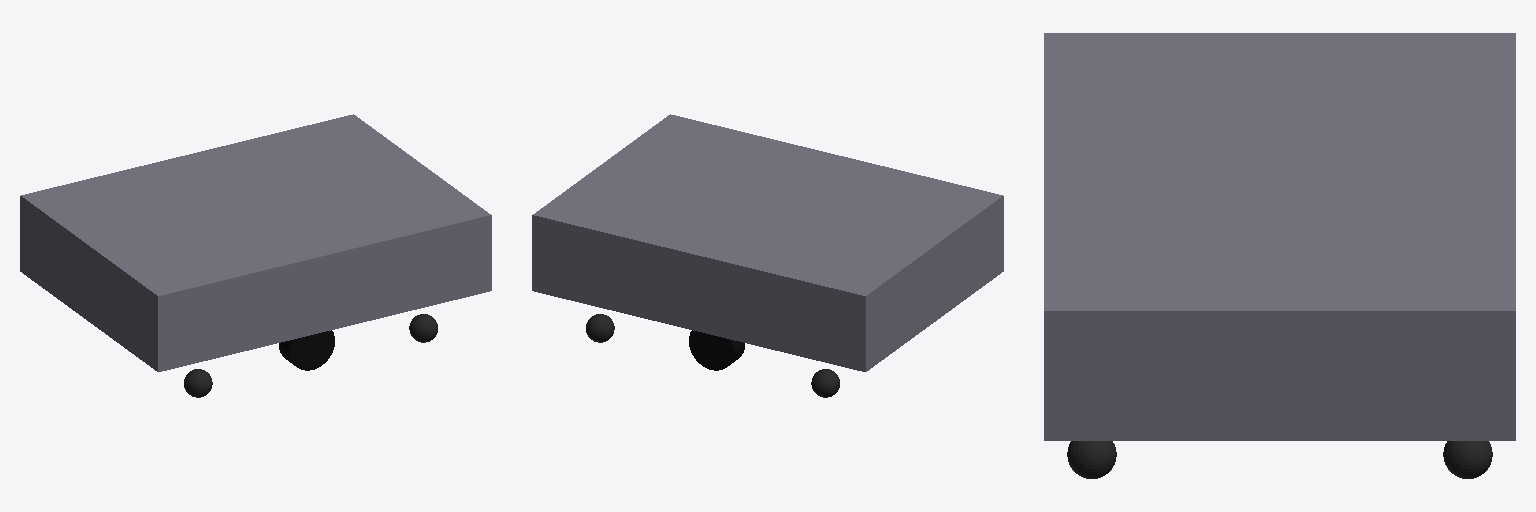
URDF robot description (slr_1000eu):
<?xml version="1.0" encoding="utf-8"?>
<!--
  URDF approximatif du SEER Robotics SLR-1000EU
  Basé sur le manuel utilisateur V1.0 (2025.12)
  
  Paramètres clés :
    - Châssis : 1330 x 952 x 290.5 mm
    - Masse totale (avec batterie) : 265 kg
    - 2 roues motrices différentielles, rayon=90mm, écartement=703mm
    - 4 roues folles (omni/caster), rayon=50mm (estimé)
    - Plateforme de levage : 1300 x 920 x 20mm, course=60mm
    - Navigation laser height : 185 mm

  AVERTISSEMENT :
    Les valeurs d'inertie et certaines géométries sont estimées.
    Les fichiers mesh (.dae/.stl) ne sont PAS inclus (non fournis par le fabricant).
    Ce fichier est un point de départ — à affiner avec les données CAD officielles.
-->

<robot name="slr_1000eu">

  <!-- ============================================================
       MATERIALS
  ============================================================ -->
  <material name="dark_gray">
    <color rgba="0.2 0.2 0.2 1.0"/>
  </material>
  <material name="cool_gray">
    <color rgba="0.5 0.5 0.55 1.0"/>
  </material>
  <material name="black">
    <color rgba="0.1 0.1 0.1 1.0"/>
  </material>
  <material name="red">
    <color rgba="0.8 0.1 0.1 1.0"/>
  </material>
  <material name="yellow">
    <color rgba="1.0 0.85 0.0 1.0"/>
  </material>

  <!-- ============================================================
       BASE LINK  (centre de l'axe différentiel, au sol)
       Origine : centre géométrique de l'axe des 2 roues motrices
  ============================================================ -->
  <link name="base_link">
    <!-- Repère de référence ROS convention : X=avant, Y=gauche, Z=haut -->
  </link>

  <!-- ============================================================
       CHASSIS LINK
       Châssis principal : 1330 x 952 x 290.5 mm
       Masse totale répartie : ~200 kg (châssis + batterie + électronique)
       Centre de masse estimé à mi-hauteur
  ============================================================ -->
  <link name="chassis">
    <visual>
      <origin xyz="0.0 0.0 0.1453" rpy="0 0 0"/>
      <geometry>
        <!-- 1330mm x 952mm x 290.5mm => coins arrondis non modélisés -->
        <box size="1.330 0.952 0.2905"/>
      </geometry>
      <material name="cool_gray"/>
    </visual>
    <collision>
      <origin xyz="0.0 0.0 0.1453" rpy="0 0 0"/>
      <geometry>
        <box size="1.330 0.952 0.2905"/> 
      </geometry>
    </collision>
    <inertial>
      <!-- masse châssis + batterie + électronique ≈ 200 kg -->
      <!-- Ixx = m/12*(h²+d²), Iyy = m/12*(w²+d²), Izz = m/12*(w²+h²) -->
      <!-- w=0.952, h=0.290, d=1.330 -->
      <mass value="200.0"/>
      <origin xyz="0.0 0.0 0.1453" rpy="0 0 0"/>
      <inertia
        ixx="6.556"
        ixy="0.0"
        ixz="0.0"
        iyy="60.27"
        iyz="0.0"
        izz="63.38"/>
    </inertial>
  </link>

  <joint name="base_to_chassis" type="fixed">
    <parent link="base_link"/>
    <child link="chassis"/>
    <origin xyz="0.0 0.0 0.090" rpy="0 0 0"/>
    <!-- L'axe différentiel est à hauteur rayon roue = 90mm du sol -->
  </joint>

  <!-- ============================================================
       ROUE MOTRICE GAUCHE
       Rayon : 90 mm  |  Largeur estimée : 80 mm
       Masse estimée : 8 kg
       Axe Y à 703/2 = 351.5 mm du centre
  ============================================================ -->
  <link name="wheel_left">
    <visual>
      <origin xyz="0.0 0.0 0.0" rpy="1.5708 0 0"/>
      <geometry>
        <cylinder radius="0.090" length="0.080"/>
      </geometry>
      <material name="black"/>
    </visual>
    <collision>
      <origin xyz="0.0 0.0 0.0" rpy="1.5708 0 0"/>
      <geometry>
        <cylinder radius="0.090" length="0.080"/>
      </geometry>
    </collision>
    <inertial>
      <mass value="8.0"/>
      <origin xyz="0.0 0.0 0.0" rpy="0 0 0"/>
      <!-- Cylindre plein : Ixx=Iyy = m/12*(3r²+h²), Izz = m/2*r² -->
      <inertia
        ixx="0.0618"
        ixy="0.0"
        ixz="0.0"
        iyy="0.0618"
        iyz="0.0"
        izz="0.0324"/>
    </inertial>
  </link>

  <joint name="left_wheel_joint" type="continuous">
    <parent link="base_link"/>
    <child link="wheel_left"/>
    <origin xyz="0.0 0.3515 0.0" rpy="0 0 0"/>
    <axis xyz="0 1 0"/>
    <dynamics damping="0.1" friction="0.5"/>
    <limit effort="100" velocity="20"/>
  </joint>

  <!-- ============================================================
       ROUE MOTRICE DROITE
  ============================================================ -->
  <link name="wheel_right">
    <visual>
      <origin xyz="0.0 0.0 0.0" rpy="1.5708 0 0"/>
      <geometry>
        <cylinder radius="0.090" length="0.080"/>
      </geometry>
      <material name="black"/>
    </visual>
    <collision>
      <origin xyz="0.0 0.0 0.0" rpy="1.5708 0 0"/>
      <geometry>
        <cylinder radius="0.090" length="0.080"/>
      </geometry>
    </collision>
    <inertial>
      <mass value="8.0"/>
      <origin xyz="0.0 0.0 0.0" rpy="0 0 0"/>
      <inertia
        ixx="0.0618"
        ixy="0.0"
        ixz="0.0"
        iyy="0.0618"
        iyz="0.0"
        izz="0.0324"/>
    </inertial>
  </link>

  <joint name="right_wheel_joint" type="continuous">
    <parent link="base_link"/>
    <child link="wheel_right"/>
    <origin xyz="0.0 -0.3515 0.0" rpy="0 0 0"/>
    <axis xyz="0 1 0"/>
    <dynamics damping="0.1" friction="0.5"/>
    <limit effort="100" velocity="20"/>
  </joint>

  <!-- ============================================================
       ROUES FOLLES / OMNI (4x)
       Positionnement estimé aux 4 coins du châssis
       Rayon estimé : 50 mm, masse : 2 kg chacune
       
       Positions (X, Y) estimées :
         Avant-gauche  : (+0.45,  +0.38)
         Avant-droite  : (+0.45,  -0.38)
         Arrière-gauche: (-0.45,  +0.38)
         Arrière-droite: (-0.45,  -0.38)
  ============================================================ -->

  <!-- Roue folle avant-gauche -->
  <link name="caster_front_left">
    <visual>
      <origin xyz="0.0 0.0 0.0" rpy="1.5708 0 0"/>
      <geometry>
        <sphere radius="0.050"/>
      </geometry>
      <material name="dark_gray"/>
    </visual>
    <collision>
      <origin xyz="0.0 0.0 0.0" rpy="0 0 0"/>
      <geometry>
        <sphere radius="0.050"/>
      </geometry>
    </collision>
    <inertial>
      <mass value="2.0"/>
      <origin xyz="0.0 0.0 0.0" rpy="0 0 0"/>
      <!-- Sphère : I = 2/5 * m * r² -->
      <inertia
        ixx="0.002"
        ixy="0.0"
        ixz="0.0"
        iyy="0.002"
        iyz="0.0"
        izz="0.002"/>
    </inertial>
  </link>

  <joint name="caster_front_left_joint" type="fixed">
    <parent link="base_link"/>
    <child link="caster_front_left"/>
    <origin xyz="0.450 0.380 -0.040" rpy="0 0 0"/>
  </joint>

  <!-- Roue folle avant-droite -->
  <link name="caster_front_right">
    <visual>
      <origin xyz="0.0 0.0 0.0" rpy="1.5708 0 0"/>
      <geometry>
        <sphere radius="0.050"/>
      </geometry>
      <material name="dark_gray"/>
    </visual>
    <collision>
      <origin xyz="0.0 0.0 0.0" rpy="0 0 0"/>
      <geometry>
        <sphere radius="0.050"/>
      </geometry>
    </collision>
    <inertial>
      <mass value="2.0"/>
      <origin xyz="0.0 0.0 0.0" rpy="0 0 0"/>
      <inertia
        ixx="0.002"
        ixy="0.0"
        ixz="0.0"
        iyy="0.002"
        iyz="0.0"
        izz="0.002"/>
    </inertial>
  </link>

  <joint name="caster_front_right_joint" type="fixed">
    <parent link="base_link"/>
    <child link="caster_front_right"/>
    <origin xyz="0.450 -0.380 -0.040" rpy="0 0 0"/>
  </joint>

  <!-- Roue folle arrière-gauche -->
  <link name="caster_rear_left">
    <visual>
      <origin xyz="0.0 0.0 0.0" rpy="1.5708 0 0"/>
      <geometry>
        <sphere radius="0.050"/>
      </geometry>
      <material name="dark_gray"/>
    </visual>
    <collision>
      <origin xyz="0.0 0.0 0.0" rpy="0 0 0"/>
      <geometry>
        <sphere radius="0.050"/>
      </geometry>
    </collision>
    <inertial>
      <mass value="2.0"/>
      <origin xyz="0.0 0.0 0.0" rpy="0 0 0"/>
      <inertia
        ixx="0.002"
        ixy="0.0"
        ixz="0.0"
        iyy="0.002"
        iyz="0.0"
        izz="0.002"/>
    </inertial>
  </link>

  <joint name="caster_rear_left_joint" type="fixed">
    <parent link="base_link"/>
    <child link="caster_rear_left"/>
    <origin xyz="-0.450 0.380 -0.040" rpy="0 0 0"/>
  </joint>

  <!-- Roue folle arrière-droite -->
  <link name="caster_rear_right">
    <visual>
      <origin xyz="0.0 0.0 0.0" rpy="1.5708 0 0"/>
      <geometry>
        <sphere radius="0.050"/>
      </geometry>
      <material name="dark_gray"/>
    </visual>
    <collision>
      <origin xyz="0.0 0.0 0.0" rpy="0 0 0"/>
      <geometry>
        <sphere radius="0.050"/>
      </geometry>
    </collision>
    <inertial>
      <mass value="2.0"/>
      <origin xyz="0.0 0.0 0.0" rpy="0 0 0"/>
      <inertia
        ixx="0.002"
        ixy="0.0"
        ixz="0.0"
        iyy="0.002"
        iyz="0.0"
        izz="0.002"/>
    </inertial>
  </link>

  <joint name="caster_rear_right_joint" type="fixed">
    <parent link="base_link"/>
    <child link="caster_rear_right"/>
    <origin xyz="-0.450 -0.380 -0.040" rpy="0 0 0"/>
  </joint>

  <!-- ============================================================
       PLATEFORME DE LEVAGE (jack/lifting platform)
       Dimensions : 1300 x 920 mm, épaisseur 20 mm (estimée)
       Course : 0 à 60 mm  |  Masse estimée : 35 kg
       Axe de levage : Z (vertical)
  ============================================================ -->
  <link name="lifting_platform">
    <visual>
      <origin xyz="0.0 0.0 0.010" rpy="0 0 0"/>
      <geometry>
        <box size="1.300 0.920 0.020"/>
      </geometry>
      <material name="dark_gray"/>
    </visual>
    <collision>
      <origin xyz="0.0 0.0 0.010" rpy="0 0 0"/>
      <geometry>
        <box size="1.300 0.920 0.020"/>
      </geometry>
    </collision>
    <inertial>
      <mass value="35.0"/>
      <origin xyz="0.0 0.0 0.010" rpy="0 0 0"/>
      <!-- Boîte : Ixx = m/12*(h²+d²), Iyy = m/12*(w²+d²), Izz = m/12*(w²+h²) -->
      <inertia
        ixx="2.614"
        ixy="0.0"
        ixz="0.0"
        iyy="5.096"
        iyz="0.0"
        izz="7.586"/>
    </inertial>
  </link>

  <joint name="lifting_joint" type="prismatic">
    <parent link="chassis"/>
    <!-- Position initiale : dessus du châssis (290.5mm) - offset chassis origin (145.3mm) -->
    <child link="lifting_platform"/>
    <origin xyz="0.0 0.0 0.1453" rpy="0 0 0"/>
    <!-- Le dessus du châssis est à chassis_origin + 0.1453 = 0.290m -->
    <axis xyz="0 0 1"/>
    <limit lower="0.0" upper="0.060" effort="5000" velocity="0.05"/>
    <dynamics damping="500.0" friction="100.0"/>
  </joint>

  <!-- ============================================================
       LASER DE NAVIGATION (SLAM) - AVANT
       SICK nanoScan3 HV
       Position : hauteur 185 mm du sol, à l'avant du robot
       Angle de scan : 270°
       Distance détection : 40 m
  ============================================================ -->
  <link name="laser_front">
    <visual>
      <origin xyz="0.0 0.0 0.0" rpy="0 0 0"/>
      <geometry>
        <cylinder radius="0.055" length="0.060"/>
      </geometry>
      <material name="dark_gray"/>
    </visual>
     
    <collision>
      <origin xyz="0.0 0.0 0.0" rpy="0 0 0"/>
      <geometry>
        <cylinder radius="0.055" length="0.060"/>
      </geometry>
    </collision>
    
    <inertial>
      <mass value="0.5"/>
      <origin xyz="0.0 0.0 0.0" rpy="0 0 0"/>
      <inertia
        ixx="0.001"
        ixy="0.0"
        ixz="0.0"
        iyy="0.001"
        iyz="0.0"
        izz="0.001"/>
    </inertial>
  </link>

  <joint name="laser_front_joint" type="fixed">
    <parent link="base_link"/>
    <!-- 
      Hauteur laser : 185mm du sol => 185mm - 90mm(rayon roue) = 95mm au-dessus de base_link
      Position X avant : distance laser-axe différentiel = 518.3mm (manuel §3.3)
      Orientation : scan vers l'avant (pas de rotation par défaut)
    -->
    <child link="laser_front"/>
    <origin xyz="0.5183 0.0 0.095" rpy="0 0 0"/> 
    <!-- <origin xyz="0.73 0.0 0.095" rpy="0 0 0"/> --> <!-- pushed it a little so it won't be blocked by the chassis-->
  </joint>

  <!-- ============================================================
       LASER DE NAVIGATION (SLAM) - ARRIÈRE
       SICK nanoScan3 HV (2 lidars au total)
       Symétrique par rapport au laser avant
  ============================================================ -->
  <link name="laser_rear">
    <visual>
      <origin xyz="0.0 0.0 0.0" rpy="0 0 0"/>
      <geometry>
        <cylinder radius="0.055" length="0.060"/>
      </geometry>
      <material name="dark_gray"/>
    </visual>
    <collision>
      <origin xyz="0.0 0.0 0.0" rpy="0 0 0"/>
      <geometry>
        <cylinder radius="0.055" length="0.060"/>
      </geometry>
    </collision>
    <inertial>
      <mass value="0.5"/>
      <origin xyz="0.0 0.0 0.0" rpy="0 0 0"/>
      <inertia
        ixx="0.001"
        ixy="0.0"
        ixz="0.0"
        iyy="0.001"
        iyz="0.0"
        izz="0.001"/>
    </inertial>
  </link>

  <joint name="laser_rear_joint" type="fixed">
    <parent link="base_link"/>
    <child link="laser_rear"/>
    <!-- Arrière du robot, tourné à 180° (scan vers l'arrière) -->

    
    <origin xyz="-0.5183 0.0 0.095" rpy="0 0 3.14159"/>
        
    <!-- <origin xyz="-0.73 0.0 0.095" rpy="0 0 3.14159"/> --> <!-- pushed it a little so it won't be blocked by the chassis-->
  </joint>

  <!-- ============================================================
       IMU (estimé au centre du châssis)
  ============================================================ -->
  <link name="imu_link">
    <inertial>
      <mass value="0.01"/>
      <origin xyz="0.0 0.0 0.0" rpy="0 0 0"/>
      <inertia
        ixx="0.000001"
        ixy="0.0"
        ixz="0.0"
        iyy="0.000001"
        iyz="0.0"
        izz="0.000001"/>
    </inertial>
  </link>

  <joint name="imu_joint" type="fixed">
    <parent link="base_link"/>
    <child link="imu_link"/>
    <origin xyz="0.0 0.0 0.100" rpy="0 0 0"/>
  </joint>




  

  <!-- ============================================================
       FRAME FOOTPRINT (projection au sol)
       Convention ROS Navigation
  ============================================================ -->
  <link name="base_footprint"/>

  
  <!-- <joint name="base_footprint_joint" type="fixed">
    <parent link="base_footprint"/>
    <child link="base_link"/>
    <origin xyz="0.0 0.0 0.090" rpy="0 0 0"/>
    
  </joint>--> <!-- base_link est à 90mm du sol (rayon des roues motrices) -->

  <!-- 
  <joint name="base_link_to_footprint" type="fixed">
    <parent link="base_link"/>
    <child link="base_footprint"/>
    <origin xyz="0.0 0.0 -0.090" rpy="0 0 0"/>
  </joint>-->

  <!-- added-->
  <joint name="base_footprint_to_link" type="fixed">
    <parent link="base_footprint"/>
    <child link="base_link"/>
    <origin xyz="0.0 0.0 0.090" rpy="0 0 0"/> 
  </joint>
  

  

  <!-- gazebo plugins added :-->
<gazebo>

    <!-- 
    <plugin
      filename="gz-sim-diff-drive-system"
      name="gz::sim::systems::DiffDrive">
      <publish_odom>true</publish_odom> 
      <publish_odom_tf>true</publish_odom_tf> 
      <left_joint>left_wheel_joint</left_joint>
      <right_joint>right_wheel_joint</right_joint>

      <wheel_separation>0.703</wheel_separation> 
      <wheel_diameter>0.180</wheel_diameter>
      <max_wheel_torque>100</max_wheel_torque>

      <topic>cmd_vel</topic>
      <odom_topic>odom</odom_topic>
      <frame_id>odom</frame_id>
      <child_frame_id>base_footprint</child_frame_id>
    </plugin> -->

    <!--
    <plugin filename="gz-sim-diff-drive-system" name="gz::sim::systems::DiffDrive">
      <publish_odom>true</publish_odom> 
      <publish_odom_tf>true</publish_odom_tf> 
      <odom_publish_frequency>50</odom_publish_frequency> 
      <left_joint>left_wheel_joint</left_joint>
      <right_joint>right_wheel_joint</right_joint>


      <wheel_separation>0.703</wheel_separation>
      <wheel_diameter>0.180</wheel_diameter>
      <max_wheel_torque>100</max_wheel_torque>

      <topic>cmd_vel</topic>
      <odom_topic>odom</odom_topic>
      <frame_id>odom</frame_id>
      <child_frame_id>base_footprint</child_frame_id>
    </plugin> -->

    <!-- new-->
    <!-- fixed it , solution from : https://www.reddit.com/r/ROS/comments/1f4hrjk/rviz_is_faster_than_gazebo_any_idea_why_this/ -->
     <!-- "wheel_diameter" to "wheel_radius"
      With the gz_sim diffdrive plugin, it uses radius instead of diameter so since the diameter is set (but not accepted by the plugin) it defaults to a different value.-->
    <plugin filename="gz-sim-diff-drive-system" name="gz::sim::systems::DiffDrive">
      <left_joint>left_wheel_joint</left_joint>
      <right_joint>right_wheel_joint</right_joint>
      <frame_id>odom</frame_id>
      <child_frame_id>base_footprint</child_frame_id>

      <wheel_separation>0.703</wheel_separation>
      <wheel_radius>0.090</wheel_radius> <max_wheel_torque>200</max_wheel_torque>
      <max_wheel_acceleration>10.0</max_wheel_acceleration>

      <max_linear_acceleration>1.0</max_linear_acceleration>
      <min_linear_acceleration>-1.0</min_linear_acceleration>
      <max_angular_acceleration>2.0</max_angular_acceleration>
      <min_angular_acceleration>-2.0</min_angular_acceleration>
      
      <max_linear_velocity>5.0</max_linear_velocity>
      <min_linear_velocity>-5.0</min_linear_velocity>
      <max_angular_velocity>5.0</max_angular_velocity>
      <min_angular_velocity>-5.0</min_angular_velocity>

      <topic>cmd_vel</topic>
      <odom_topic>odom</odom_topic>
      <publish_odom>true</publish_odom> 
      <publish_odom_tf>true</publish_odom_tf> 
      <odom_publish_frequency>25</odom_publish_frequency>
    </plugin>
  </gazebo>


  

  <!--Mouvement -->
  <gazebo reference="caster_front_left"><mu1>0.01</mu1><mu2>0.01</mu2></gazebo>
  <gazebo reference="caster_front_right"><mu1>0.01</mu1><mu2>0.01</mu2></gazebo>
  <gazebo reference="caster_rear_left"><mu1>0.01</mu1><mu2>0.01</mu2></gazebo>
  <gazebo reference="caster_rear_right"><mu1>0.01</mu1><mu2>0.01</mu2></gazebo>


  
  <!--friction -->
  <!--<gazebo reference="wheel_left"> 
    <mu1>1.0</mu1>
    <mu2>1.0</mu2>
    <fdir1>1 0 0</fdir1>
  </gazebo>
  <gazebo reference="wheel_right">
    <mu1>1.0</mu1>
    <mu2>1.0</mu2>
    <fdir1>1 0 0</fdir1>
  </gazebo>-->

  <!-- Lidar plugin-->

    <gazebo reference="laser_front">
    <sensor name="front_lidar" type="gpu_lidar">
      <always_on>true</always_on>
      <visualize>true</visualize> 
      <update_rate>15</update_rate>
      <topic>scan_front</topic>
      <gz_frame_id>laser_front</gz_frame_id>
      <lidar>
        <scan>
          <horizontal>
            <samples>540</samples>
            <resolution>1.0</resolution>
            <min_angle>-2.35619</min_angle>
            <max_angle>2.35619</max_angle>
          </horizontal>
        </scan>
        <range>
          <min>0.10</min>
          <max>40.0</max>
          <resolution>0.01</resolution>
        </range>
      </lidar>
    </sensor>
  </gazebo>

  <gazebo reference="laser_rear">
    <sensor name="rear_lidar" type="gpu_lidar">
      <always_on>true</always_on>
      <visualize>true</visualize> <update_rate>15</update_rate>
      <topic>scan_rear</topic>
      <gz_frame_id>laser_rear</gz_frame_id>
      <lidar>
        <scan>
          <horizontal>
            <samples>540</samples>
            <resolution>1.0</resolution>
            <min_angle>-2.35619</min_angle>
            <max_angle>2.35619</max_angle>
          </horizontal>
        </scan>
        <range>
          <min>0.10</min>
          <max>40.0</max>
          <resolution>0.01</resolution>
        </range>
      </lidar>
    </sensor>
  </gazebo>

  <gazebo reference="imu_link">
    <sensor name="imu_sensor" type="imu">
      <always_on>true</always_on>
      <update_rate>50</update_rate>
      <topic>imu</topic>
      <gz_frame_id>imu_link</gz_frame_id>
    </sensor>
  </gazebo>
  
  <gazebo>
    <plugin filename="gz-sim-pose-publisher-system" name="gz::sim::systems::PosePublisher">
      <publish_model_pose>true</publish_model_pose>
      <publish_nested_model_pose>false</publish_nested_model_pose>
      <publish_link_pose>false</publish_link_pose>
      <publish_visual_pose>false</publish_visual_pose>
      <publish_collision_pose>false</publish_collision_pose>
      <use_pose_vector_msg>false</use_pose_vector_msg>
      <update_frequency>50</update_frequency>
    </plugin>
  </gazebo>

  <gazebo>
    <plugin filename="gz-sim-joint-state-publisher-system" name="gz::sim::systems::JointStatePublisher">
      <topic>joint_states</topic>
    </plugin>
  </gazebo>

</robot>

--- What the picture shows (computed from the rendered views, not written in the file) ---
The picture shows the robot from 3 angles, left to right: view 1: azimuth 30°, elevation 25°; view 2: azimuth 150°, elevation 25°; view 3: azimuth 270°, elevation 25°; orthographic projection.
Model slr_1000eu with 13 links and 12 joints (2 continuous, 1 prismatic, 9 fixed), rooted at base_footprint, posed all joints at 0.
Visible links, largest first — view 1: chassis, wheel_right, caster_front_right, caster_rear_right; view 2: chassis, wheel_left, caster_front_left, caster_rear_left; view 3: chassis, caster_front_left, caster_front_right.
Boxes of the visible links, <box> form: chassis: <box>20,114,491,371</box>; wheel_right: <box>279,330,334,370</box>; caster_front_right: <box>409,314,437,342</box>; caster_rear_right: <box>184,369,212,397</box>; chassis: <box>532,114,1003,371</box>; wheel_left: <box>689,330,744,370</box>; caster_front_left: <box>586,314,614,342</box>; caster_rear_left: <box>811,369,839,397</box>; chassis: <box>1044,33,1515,440</box>; caster_front_left: <box>1443,441,1492,478</box>; caster_front_right: <box>1067,441,1116,478</box>.
Bounding box of the posed robot: 1.33 × 0.952 × 0.4706 m (x, y, z).
Geometry: primitives only (box / cylinder / sphere), no mesh files.
